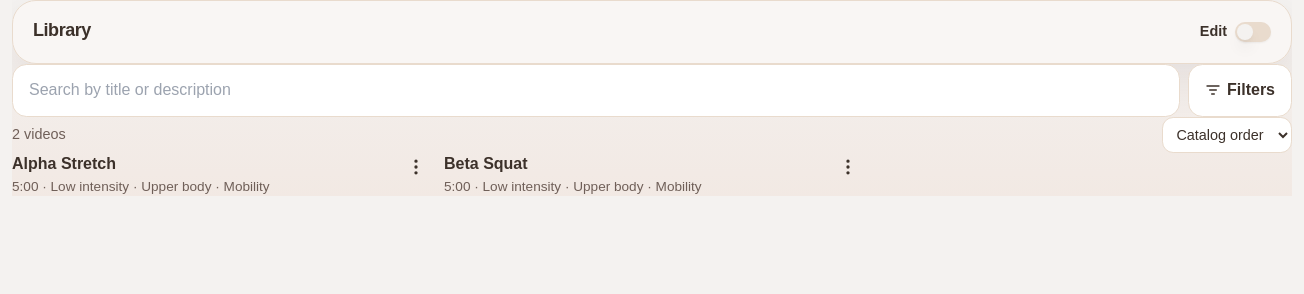
Scenario: deletes an exercise after confirming, mentioning its logs
The width and height of the screenshot is (1304, 294).
Expected: the heading "Beta Squat" is shown, [444,155,528,172]
What coordinates should you click on to do the following:
click the switch named "edit"
I would click on:
 (1253, 32)
Its box is [1235,22,1271,42].
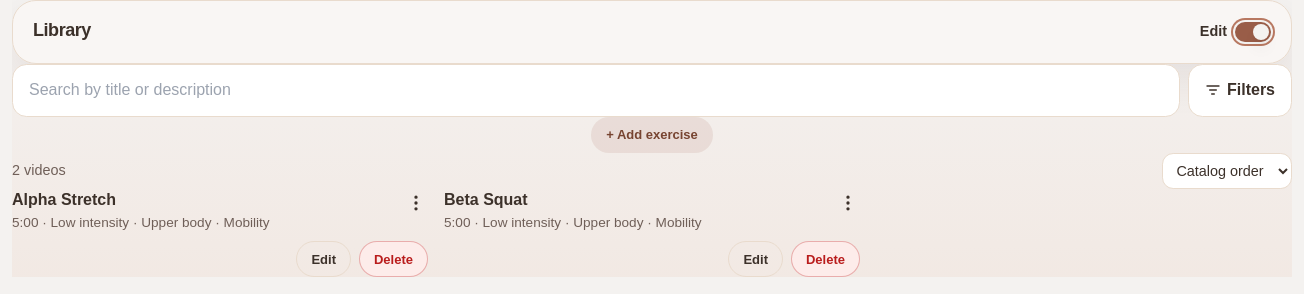
What coordinates should you click on to do the following:
click the button with aria-label "delete beta squat"
I would click on:
 (826, 259)
Its box is [791,241,860,277].
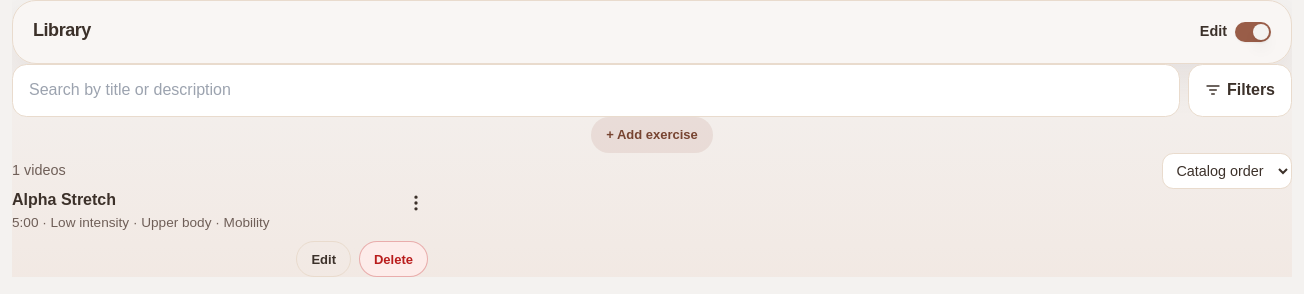
Now the link "Beta Squat" is gone
